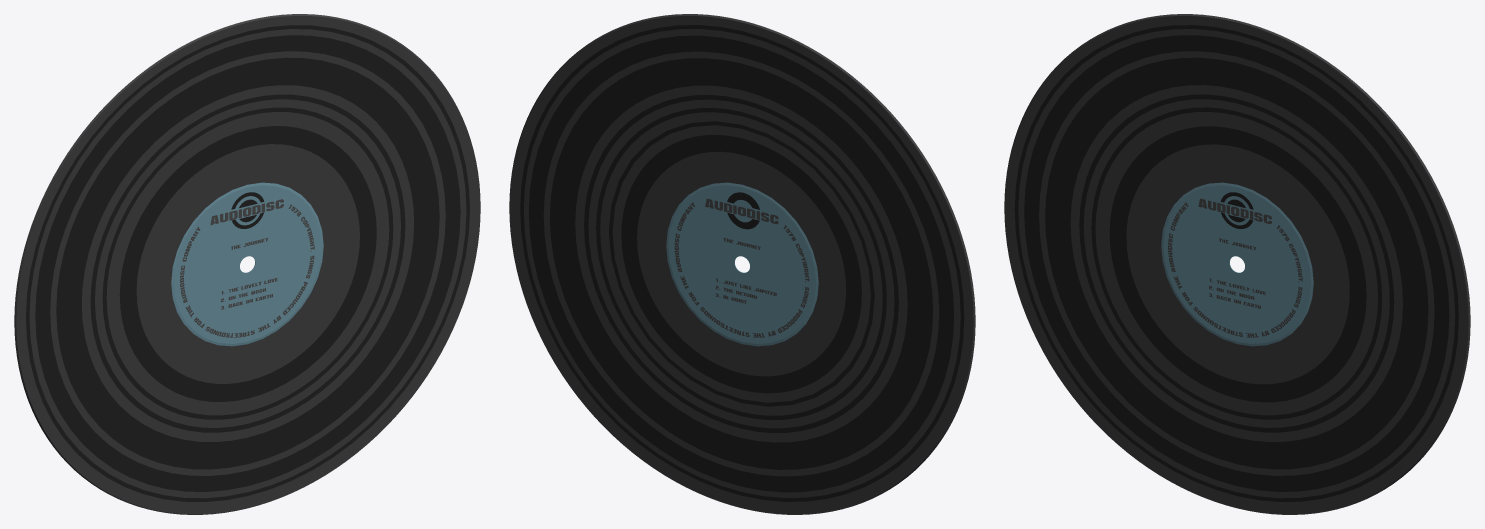
The model's file is vinylrecord.glb.
The picture shows the model from 3 angles, left to right: view 1: azimuth 30°, elevation 25°; view 2: azimuth 150°, elevation 25°; view 3: azimuth 330°, elevation 25°; orthographic projection.
Visible parts, largest first — view 1: Circle_2, Circle.004_6, Circle.003_5, Circle.009_11, Circle.008_10, Circle.002_4, Circle.005_7, Circle.006_8, Circle.001_3, Text.004_27, Text_12; view 2: Circle_2, Circle.012_16, Circle.011_15, Circle.009_11, Circle.015_19, Circle.010_14, Circle.013_17, Circle.014_18, Circle.007_9, Circle.001_3, Text.008_33, Text.005_28; view 3: Circle_2, Circle.004_6, Circle.003_5, Circle.009_11, Circle.008_10, Circle.002_4, Circle.005_7, Circle.006_8, Circle.001_3, Text.004_27, Text_12.
Boxes of the visible parts, box(x1,y1,x2,y2) form: Circle_2: box(14, 14, 480, 514); Circle.004_6: box(56, 57, 439, 469); Circle.003_5: box(35, 35, 460, 491); Circle.009_11: box(171, 182, 323, 346); Circle.008_10: box(119, 126, 376, 401); Circle.002_4: box(26, 25, 469, 501); Circle.005_7: box(90, 94, 405, 432); Circle.006_8: box(102, 107, 393, 419); Circle.001_3: box(29, 29, 466, 498); Text.004_27: box(180, 204, 314, 337); Text_12: box(210, 199, 283, 225); Circle_2: box(509, 14, 975, 514); Circle.012_16: box(549, 58, 932, 469); Circle.011_15: box(528, 35, 953, 492); Circle.009_11: box(666, 182, 818, 346); Circle.015_19: box(621, 135, 861, 393); Circle.010_14: box(520, 25, 964, 501); Circle.013_17: box(584, 95, 898, 432); Circle.014_18: box(596, 108, 886, 420); Circle.007_9: box(608, 121, 874, 406); Circle.001_3: box(523, 29, 960, 497); Text.008_33: box(674, 202, 809, 337); Text.005_28: box(705, 198, 778, 224); Circle_2: box(1004, 14, 1470, 514); Circle.004_6: box(1045, 57, 1428, 469); Circle.003_5: box(1024, 35, 1449, 491); Circle.009_11: box(1161, 182, 1313, 346); Circle.008_10: box(1109, 126, 1366, 402); Circle.002_4: box(1014, 25, 1458, 501); Circle.005_7: box(1079, 94, 1394, 432); Circle.006_8: box(1091, 107, 1382, 419); Circle.001_3: box(1018, 29, 1451, 498); Text.004_27: box(1168, 202, 1302, 337); Text_12: box(1198, 198, 1271, 223).
Bounding box in the file's own units: 2.03 × 2.03 × 0.0158.
